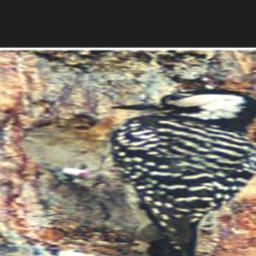Woodpecker: (31, 83, 256, 256)
